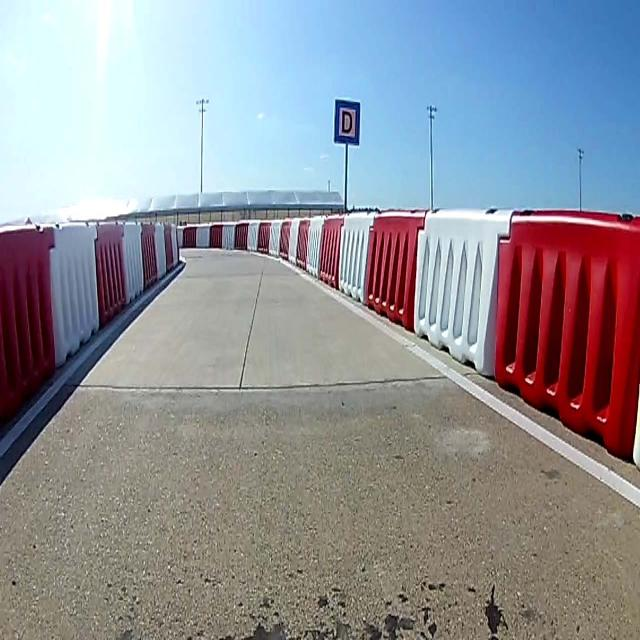durak: (334, 99, 361, 145)
